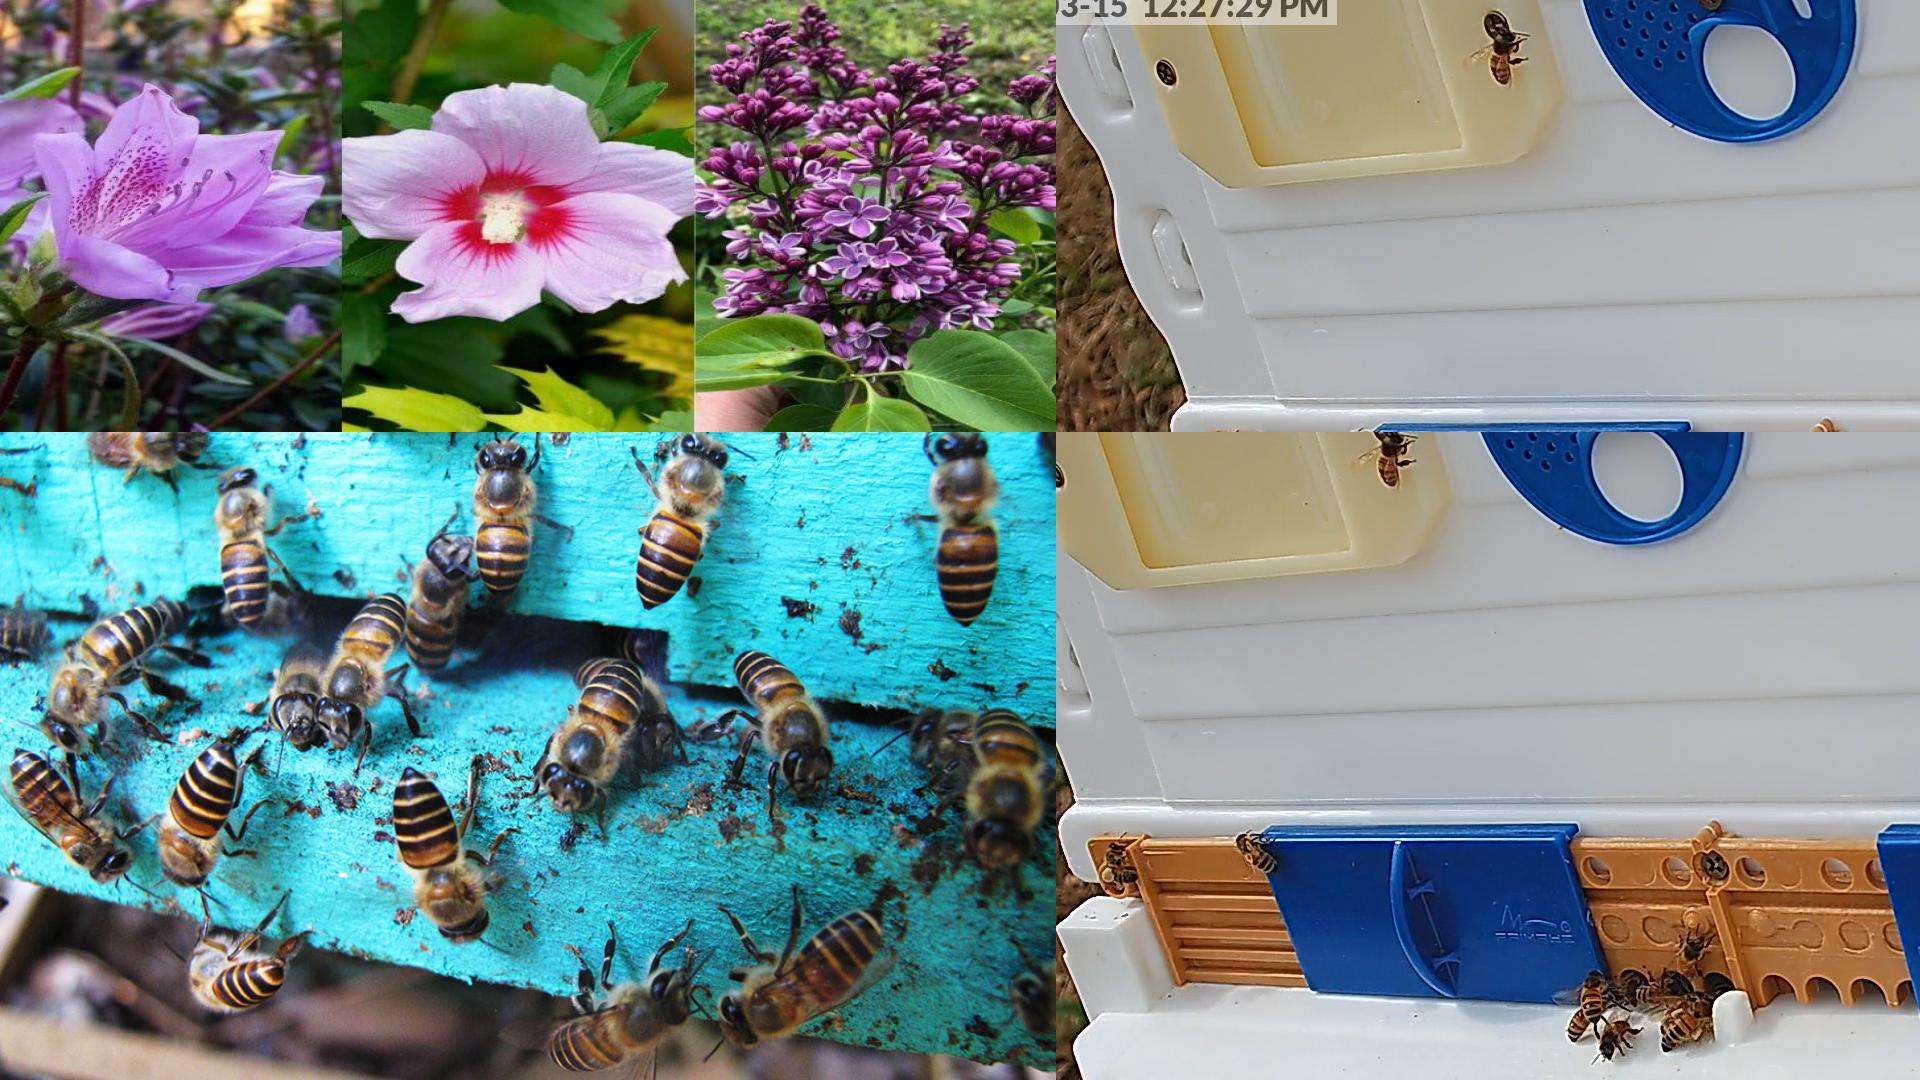bee: (723, 909, 885, 1047), (393, 767, 489, 942), (46, 609, 165, 748), (636, 433, 727, 609), (11, 748, 129, 881), (733, 651, 832, 798), (549, 661, 642, 814), (551, 971, 690, 1072), (319, 591, 406, 742), (935, 435, 997, 625), (914, 711, 1055, 793), (158, 745, 236, 886), (977, 712, 1044, 868), (574, 662, 676, 761), (405, 535, 472, 671), (476, 442, 533, 596), (65, 600, 199, 665), (218, 467, 270, 629), (186, 931, 280, 1011), (274, 640, 323, 748), (91, 433, 210, 469), (222, 592, 316, 625), (1013, 963, 1056, 1033), (593, 612, 653, 661), (0, 609, 55, 653), (1568, 990, 1614, 1039), (1237, 832, 1279, 873), (1659, 993, 1697, 1033), (1490, 32, 1518, 82), (1378, 434, 1406, 484), (1600, 1018, 1629, 1060), (1633, 981, 1680, 1004), (1582, 971, 1602, 1022), (1679, 935, 1702, 977), (1709, 972, 1735, 998), (1625, 967, 1642, 996)
pollenbee: (1671, 1000, 1712, 1039), (1101, 841, 1138, 882)
